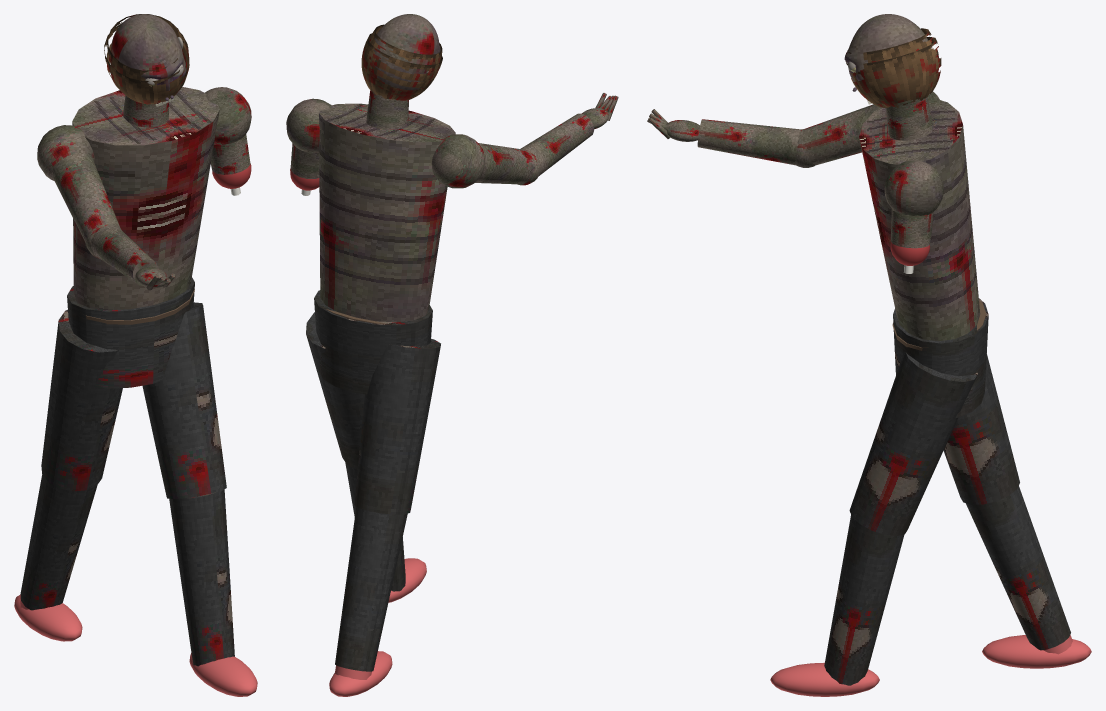
Rendered from Zombie_139.glb.
3 renders of one model, left to right at view 1: azimuth 30°, elevation 25°; view 2: azimuth 150°, elevation 25°; view 3: azimuth 270°, elevation 25°, orthographic. The views are drawn at different scales.
Visible parts, largest first — view 1: Zombie_139, object 9, object 3, object 36, object 35, object 4; view 2: Zombie_139, object 9, object 3, object 36, object 35; view 3: Zombie_139, object 36, object 3, object 9, object 35.
Boxes of the visible parts, x1,y1,x2,y2 form: Zombie_139: (14,87,257,696); object 9: (111,14,186,96); object 3: (91,225,158,285); object 36: (104,23,189,104); object 35: (107,14,187,92); object 4: (135,267,168,287); Zombie_139: (286,90,535,696); object 9: (373,14,440,90); object 3: (520,113,593,176); object 36: (361,33,442,100); object 35: (364,24,442,95); Zombie_139: (770,91,1091,696); object 36: (845,36,941,107); object 3: (697,119,800,165); object 9: (844,14,931,81); object 35: (847,28,938,104).
Size of the model in its own units: 0.6053 by 1.7 by 1.04.
Materials: 18 (6 with a texture image).
